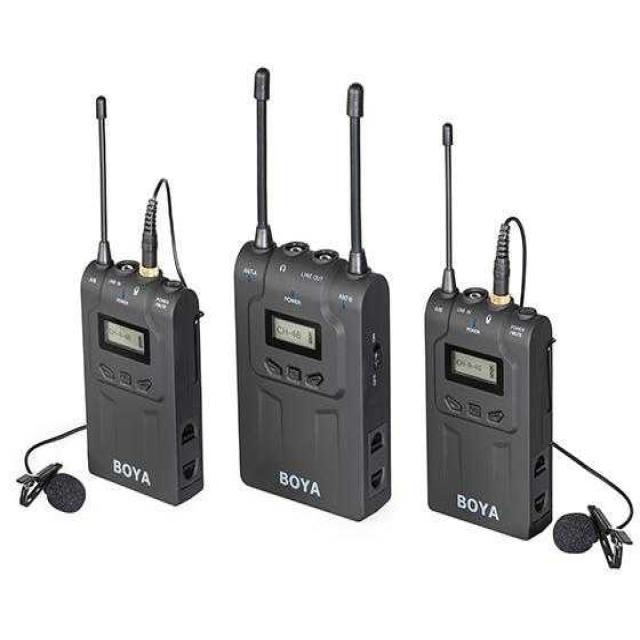microphone: (553, 512, 597, 553), (44, 472, 86, 512)
